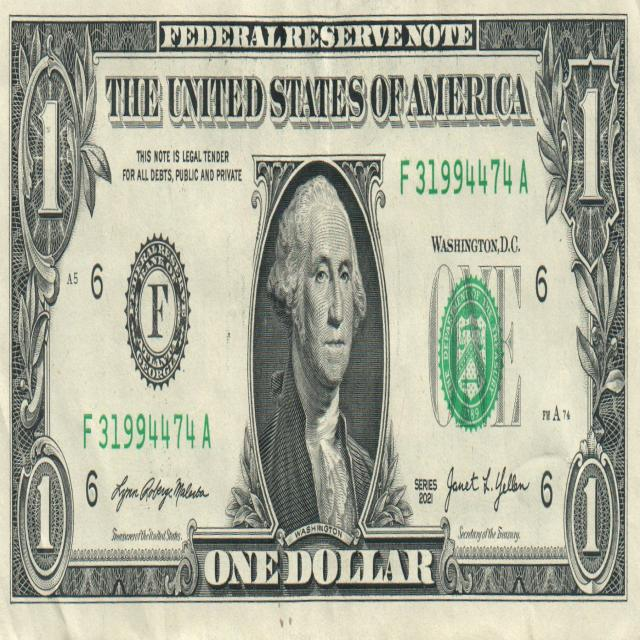SerialNumber: (401, 159, 528, 195), (84, 414, 210, 449)
